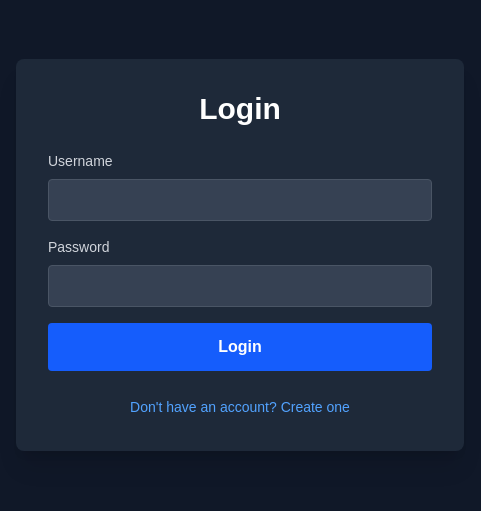
it: Login Page › Register Flow › should switch to register mode
Step 1. Click the button "Don't have an account? Create one" → (240, 407), box [130,397,350,417]
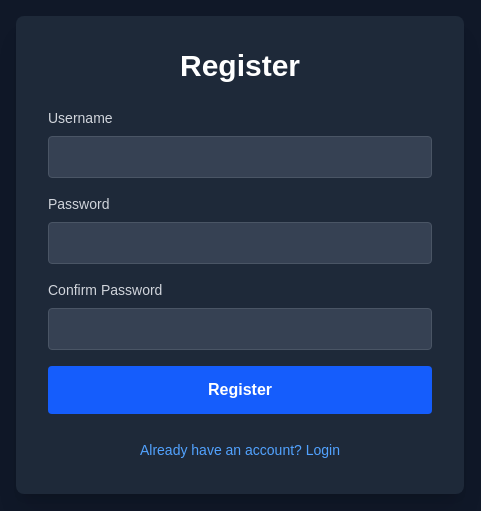
Expected: the heading "Register" is shown, [180,49,300,82]
Expected: the button "Register" is shown, [48,366,432,414]
